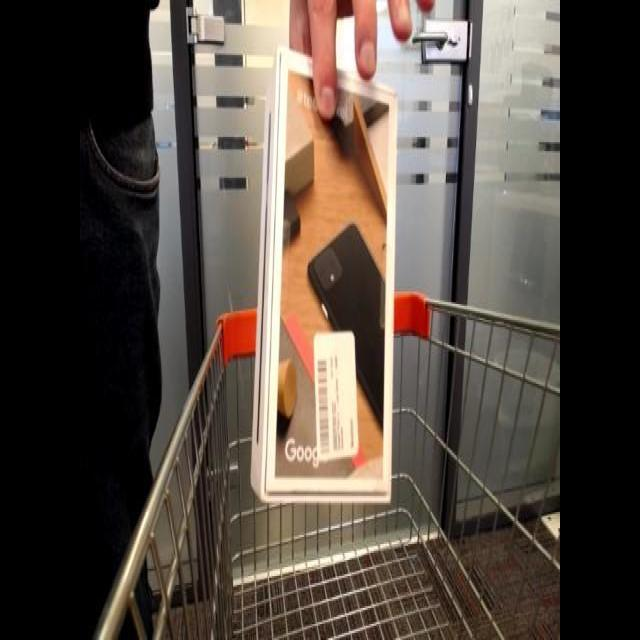Pixel 4: (243, 54, 414, 510)
